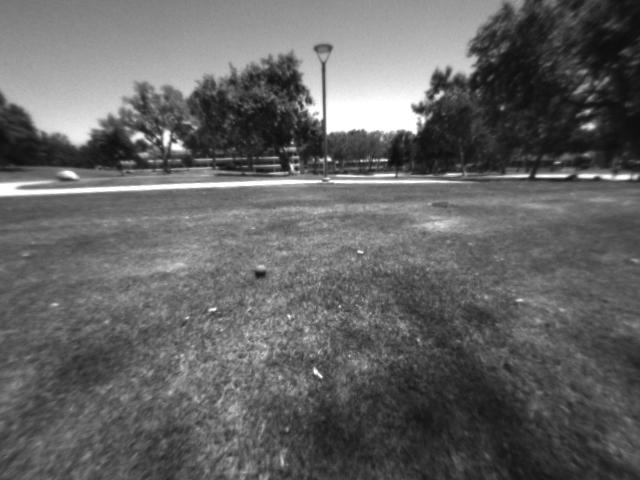dogtoy: (245, 258, 275, 285)
